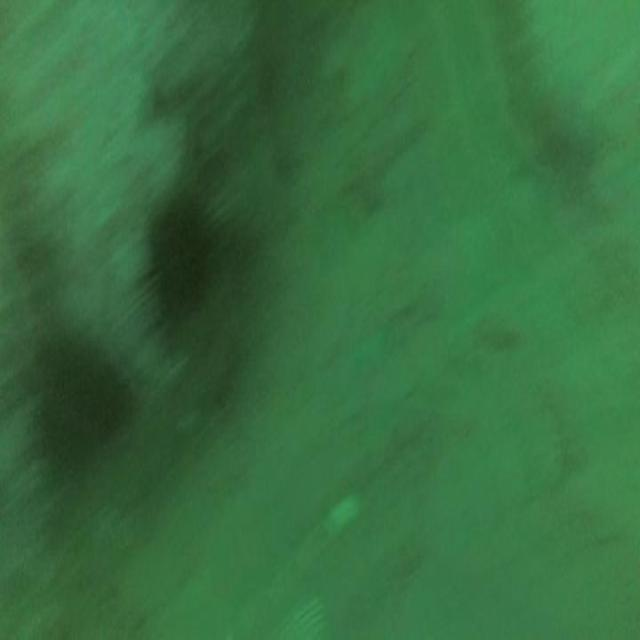echinus: (136, 179, 237, 346), (37, 324, 127, 474)
